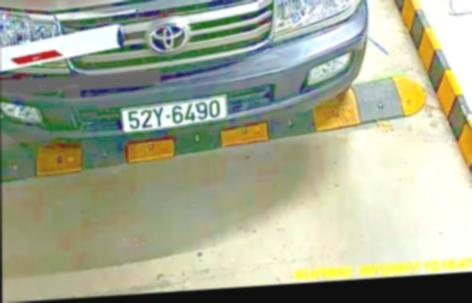License_Plate: (120, 97, 232, 134)
